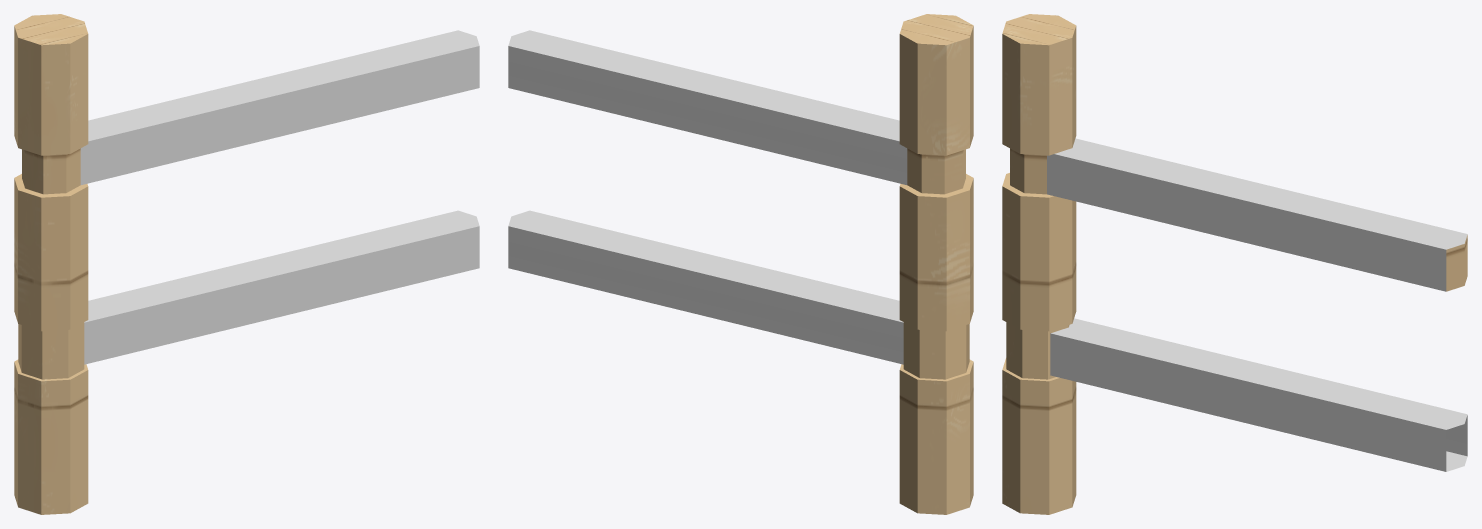
Rendered from StairBarSingle.fbx.
3 views of the same model, side by side, from view 1: azimuth 30°, elevation 25°; view 2: azimuth 150°, elevation 25°; view 3: azimuth 330°, elevation 25° (orthographic).
Parts seen in each view (by area): view 1: Cylinder; view 2: Cylinder; view 3: Cylinder.
Boxes of the visible parts, box(x1,y1,x2,y2) form: Cylinder: box(14, 14, 479, 514); Cylinder: box(508, 14, 973, 514); Cylinder: box(1002, 14, 1467, 514).
Size of the model in its own units: 158 by 155 by 22.86.
2 materials, 2 textured.
